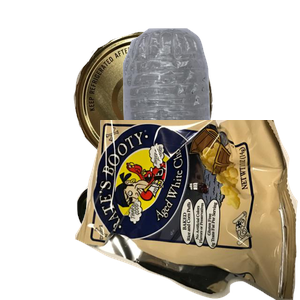glass: (74, 158, 223, 300)
metal: (71, 29, 276, 193)
plastic: (111, 26, 300, 206)
trash: (75, 120, 300, 300)
